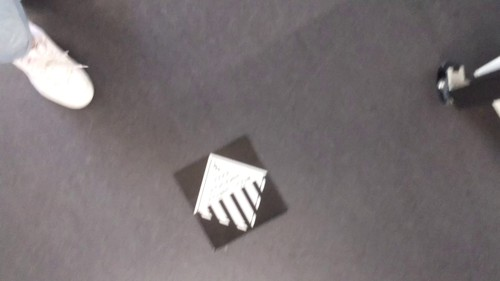misgoods: (186, 149, 277, 237)
